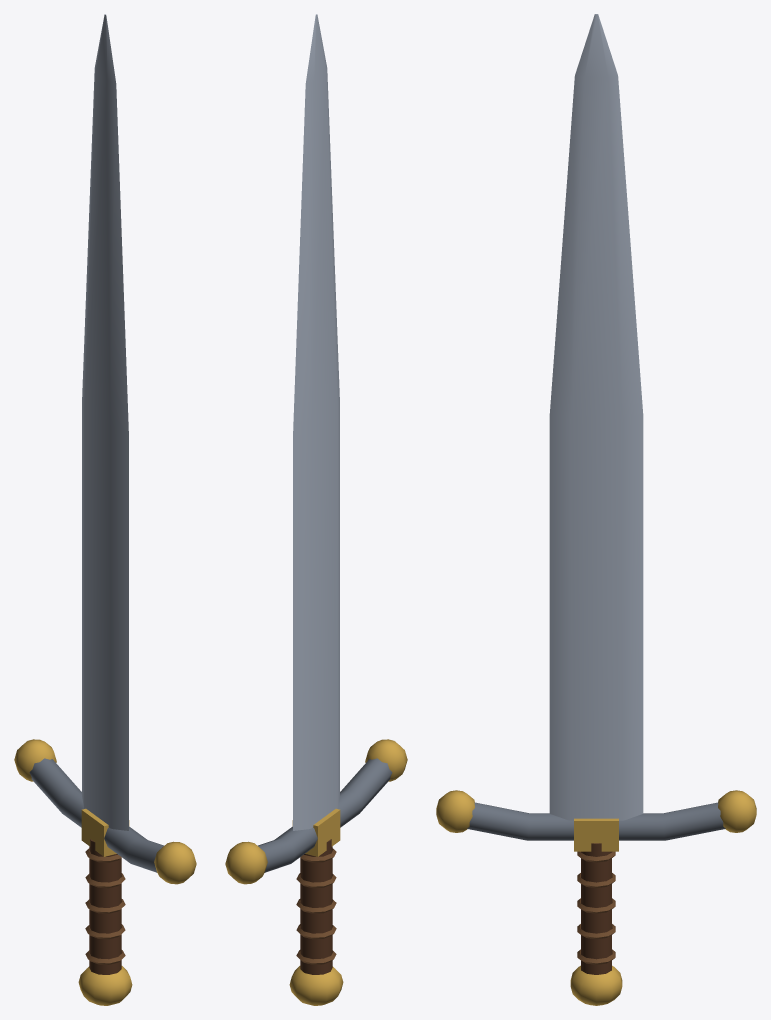
File: sword_iron.glb
3 renders of one model, left to right at view 1: azimuth 30°, elevation 25°; view 2: azimuth 150°, elevation 25°; view 3: azimuth 270°, elevation 25°, orthographic.
Parts seen in each view (by area): view 1: Sword_Iron; view 2: Sword_Iron; view 3: Sword_Iron.
Boxes of the visible parts, x1=… form: Sword_Iron: x1=14, y1=14, x2=196, y2=1005; Sword_Iron: x1=225, y1=14, x2=407, y2=1005; Sword_Iron: x1=436, y1=14, x2=756, y2=1005.
Bounding box in the file's own units: 0.048 × 0.9672 × 0.2841.
